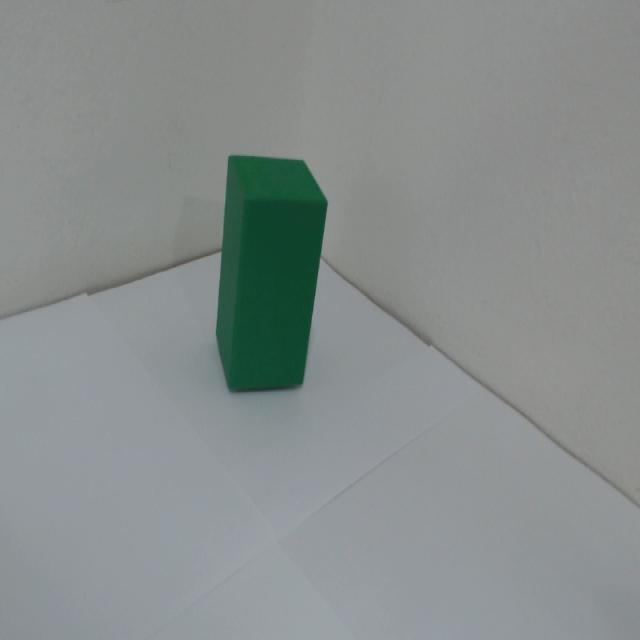cube: (209, 120, 356, 468)
